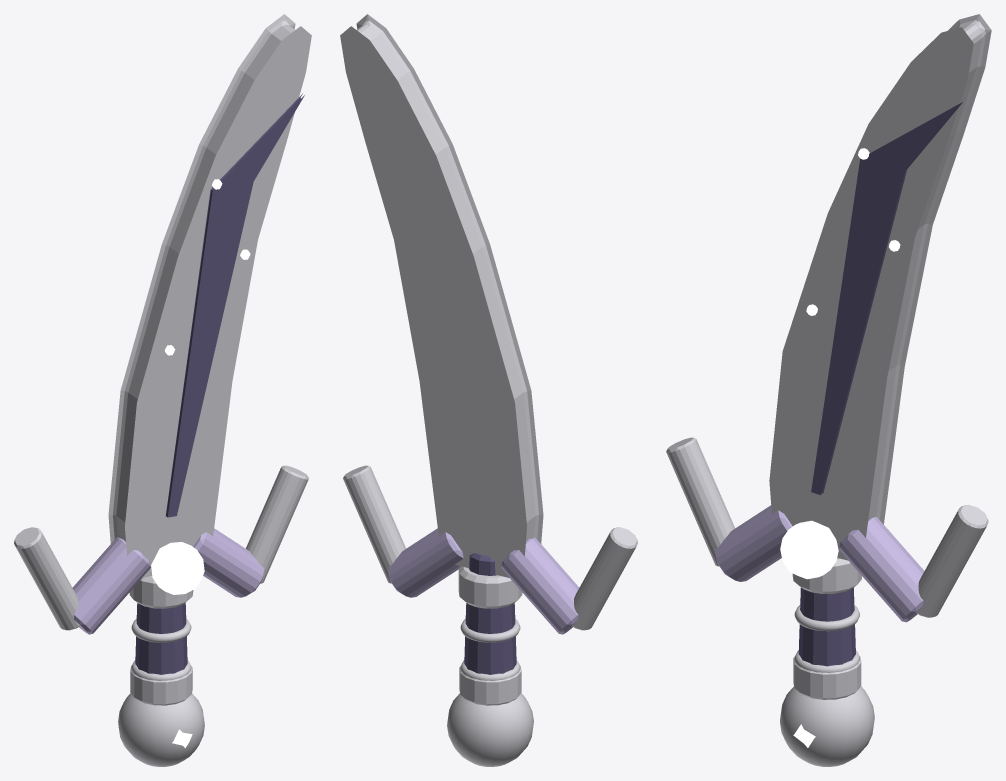
Rendered from dual-pair-07-crescent-moon.glb.
3 renders of one model, left to right at view 1: azimuth 30°, elevation 25°; view 2: azimuth 150°, elevation 25°; view 3: azimuth 330°, elevation 25°, orthographic. The views are drawn at different scales.
Parts seen in each view (by area): view 1: dual-pair-07-crescent-moon_ForgedBlade.001, dual-pair-07-crescent-moon_ColoredFuller.001, dual-pair-07-crescent-moon_Pommel.001, dual-pair-07-crescent-moon_Guard_Left.001, dual-pair-07-crescent-moon_Guard_RightTip.001, dual-pair-07-crescent-moon_Guard_LeftTip.001, dual-pair-07-crescent-moon_Guard_Right.001, dual-pair-07-crescent-moon_LeatherGrip.001, dual-pair-07-crescent-moon_GuardGem.001, dual-pair-07-crescent-moon_LowerFerrule.001, dual-pair-07-crescent-moon_UpperFerrule.001, dual-pair-07-crescent-moon_GripBinding_2.001; view 2: dual-pair-07-crescent-moon_ForgedBlade.001, dual-pair-07-crescent-moon_Pommel.001, dual-pair-07-crescent-moon_Guard_Left.001, dual-pair-07-crescent-moon_LeatherGrip.001, dual-pair-07-crescent-moon_Guard_Right.001, dual-pair-07-crescent-moon_Guard_RightTip.001, dual-pair-07-crescent-moon_Guard_LeftTip.001, dual-pair-07-crescent-moon_UpperFerrule.001, dual-pair-07-crescent-moon_LowerFerrule.001, dual-pair-07-crescent-moon_GripBinding_2.001; view 3: dual-pair-07-crescent-moon_ForgedBlade.001, dual-pair-07-crescent-moon_ColoredFuller.001, dual-pair-07-crescent-moon_Pommel.001, dual-pair-07-crescent-moon_Guard_Right.001, dual-pair-07-crescent-moon_Guard_RightTip.001, dual-pair-07-crescent-moon_Guard_LeftTip.001, dual-pair-07-crescent-moon_Guard_Left.001, dual-pair-07-crescent-moon_LeatherGrip.001, dual-pair-07-crescent-moon_GuardGem.001, dual-pair-07-crescent-moon_LowerFerrule.001, dual-pair-07-crescent-moon_UpperFerrule.001, dual-pair-07-crescent-moon_GripBinding_2.001 (+1 smaller).
Part boxes in pixels (x1,y1,x2,y2): dual-pair-07-crescent-moon_ForgedBlade.001: (108, 14, 311, 577); dual-pair-07-crescent-moon_ColoredFuller.001: (165, 93, 304, 517); dual-pair-07-crescent-moon_Pommel.001: (118, 693, 204, 766); dual-pair-07-crescent-moon_Guard_Left.001: (72, 537, 150, 634); dual-pair-07-crescent-moon_Guard_RightTip.001: (246, 465, 308, 583); dual-pair-07-crescent-moon_Guard_LeftTip.001: (14, 527, 79, 630); dual-pair-07-crescent-moon_Guard_Right.001: (193, 528, 264, 597); dual-pair-07-crescent-moon_LeatherGrip.001: (135, 603, 187, 674); dual-pair-07-crescent-moon_GuardGem.001: (151, 542, 204, 594); dual-pair-07-crescent-moon_LowerFerrule.001: (130, 665, 192, 705); dual-pair-07-crescent-moon_UpperFerrule.001: (129, 576, 193, 608); dual-pair-07-crescent-moon_GripBinding_2.001: (131, 619, 191, 642); dual-pair-07-crescent-moon_ForgedBlade.001: (340, 14, 543, 577); dual-pair-07-crescent-moon_Pommel.001: (447, 693, 533, 766); dual-pair-07-crescent-moon_Guard_Left.001: (501, 537, 579, 634); dual-pair-07-crescent-moon_LeatherGrip.001: (464, 553, 516, 674); dual-pair-07-crescent-moon_Guard_Right.001: (387, 528, 463, 597); dual-pair-07-crescent-moon_Guard_RightTip.001: (343, 465, 405, 583); dual-pair-07-crescent-moon_Guard_LeftTip.001: (572, 527, 637, 630); dual-pair-07-crescent-moon_UpperFerrule.001: (458, 566, 522, 608); dual-pair-07-crescent-moon_LowerFerrule.001: (459, 665, 521, 705); dual-pair-07-crescent-moon_GripBinding_2.001: (460, 619, 520, 642); dual-pair-07-crescent-moon_ForgedBlade.001: (769, 14, 991, 560); dual-pair-07-crescent-moon_ColoredFuller.001: (811, 102, 962, 495); dual-pair-07-crescent-moon_Pommel.001: (780, 686, 874, 766); dual-pair-07-crescent-moon_Guard_Right.001: (839, 517, 924, 622); dual-pair-07-crescent-moon_Guard_RightTip.001: (916, 505, 988, 617); dual-pair-07-crescent-moon_Guard_LeftTip.001: (666, 437, 735, 566); dual-pair-07-crescent-moon_Guard_Left.001: (715, 505, 792, 581); dual-pair-07-crescent-moon_LeatherGrip.001: (798, 587, 855, 666); dual-pair-07-crescent-moon_GuardGem.001: (780, 520, 838, 579); dual-pair-07-crescent-moon_LowerFerrule.001: (793, 656, 861, 699); dual-pair-07-crescent-moon_UpperFerrule.001: (792, 558, 861, 593); dual-pair-07-crescent-moon_GripBinding_2.001: (794, 605, 859, 631).
Bounding box in the file's own units: 0.4221 × 0.9884 × 0.1286.
